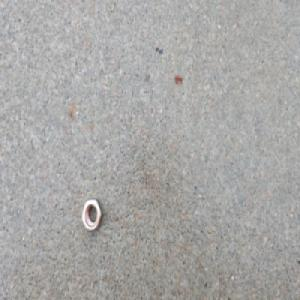Nut: (80, 197, 103, 234)
